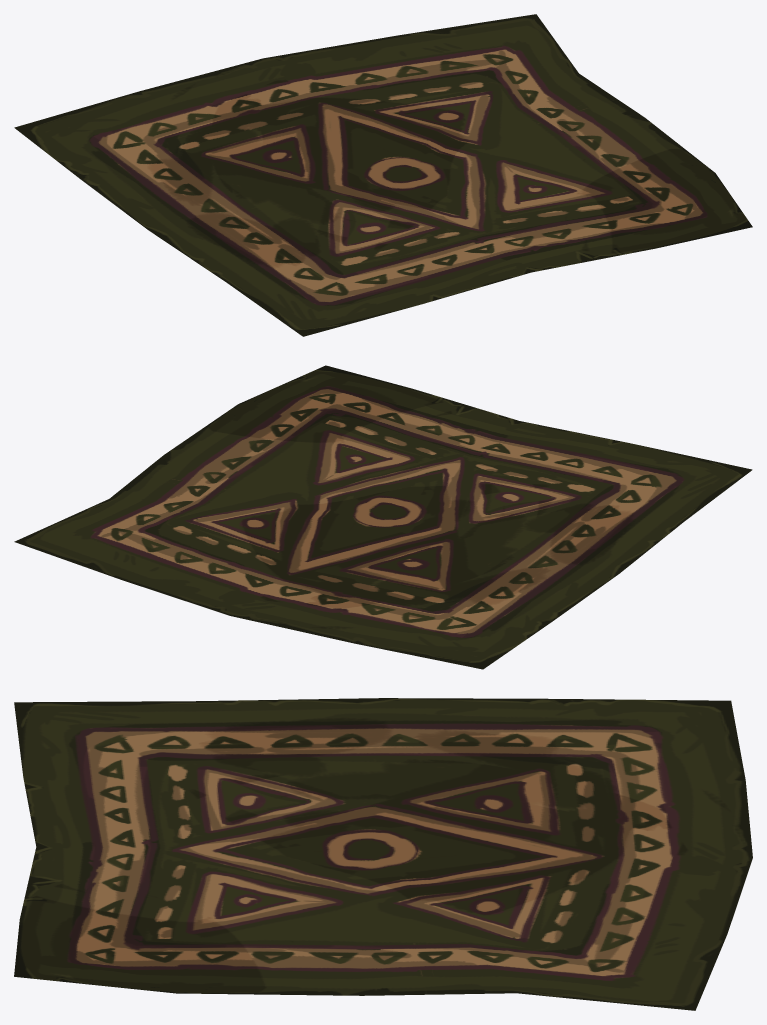
The model's file is SM_PROP_rug_dungeon_04.fbx.
3 views of the same model, one above another, from view 1: azimuth 30°, elevation 25°; view 2: azimuth 150°, elevation 25°; view 3: azimuth 270°, elevation 25° (orthographic). The views are drawn at different scales.
Parts seen in each view (by area): view 1: SM_PROP_rug_dungeon_04; view 2: SM_PROP_rug_dungeon_04; view 3: SM_PROP_rug_dungeon_04.
Part boxes in pixels (x1,y1,x2,y2): SM_PROP_rug_dungeon_04: (14,14,752,336); SM_PROP_rug_dungeon_04: (14,365,752,669); SM_PROP_rug_dungeon_04: (14,698,752,1010).
Bounding box in the file's own units: 269 × 9.05e-05 × 268.
